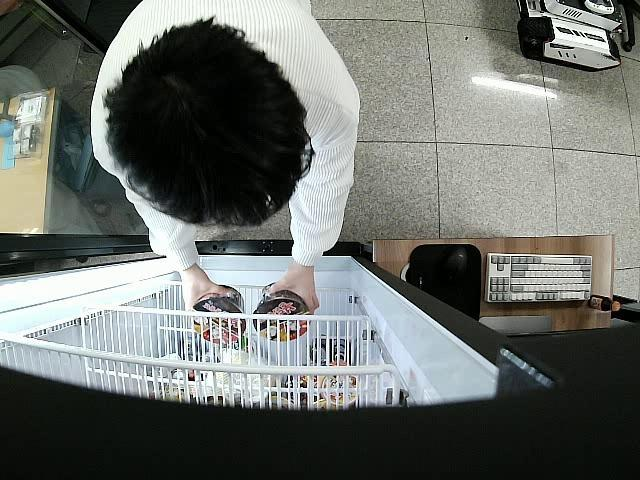07_buldak_L: (252, 282, 311, 342), (190, 284, 246, 346)
